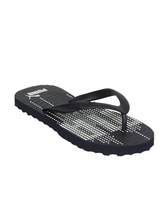shoes: (16, 84, 157, 154)
